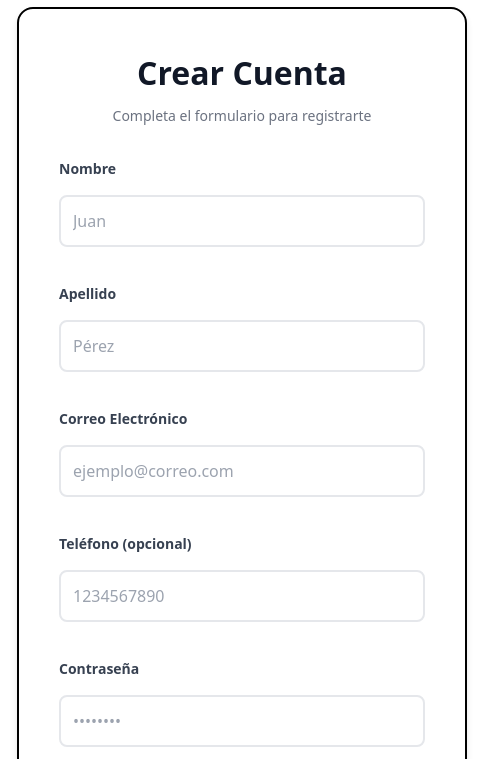
Test: RegisterPage › Validación de campos › debe validar que las contraseñas coincidan
Type "Password123" into the password field labelled "Contraseña". click: coordinates (242, 721)
box: [59,695,425,747]
(page scrolled)
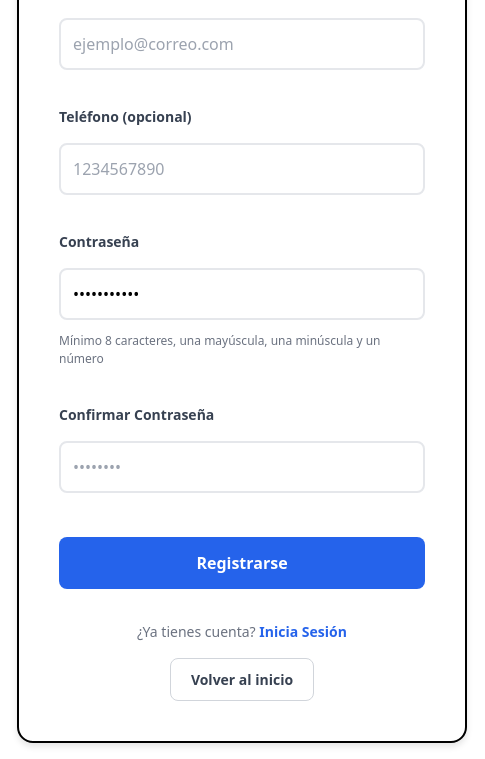
Type "Password456" into the password field labelled "Confirmar Contraseña". click: coordinates (242, 467)
box: [59,441,425,493]
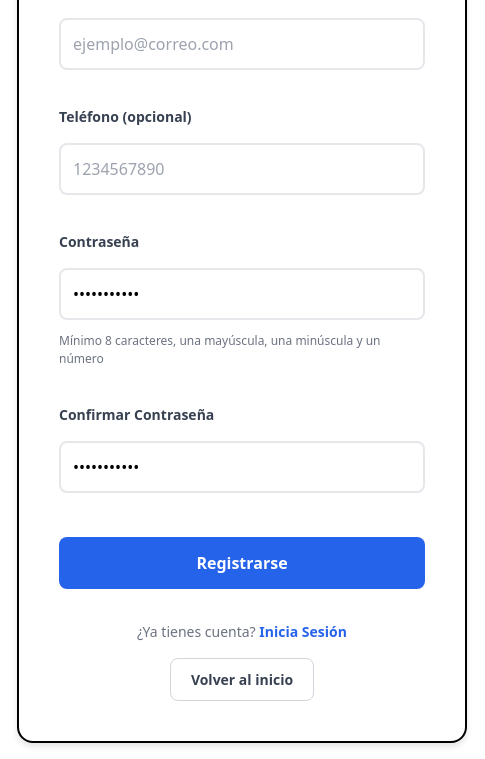
Leave the password field labelled "Confirmar Contraseña", box [59,441,425,493]
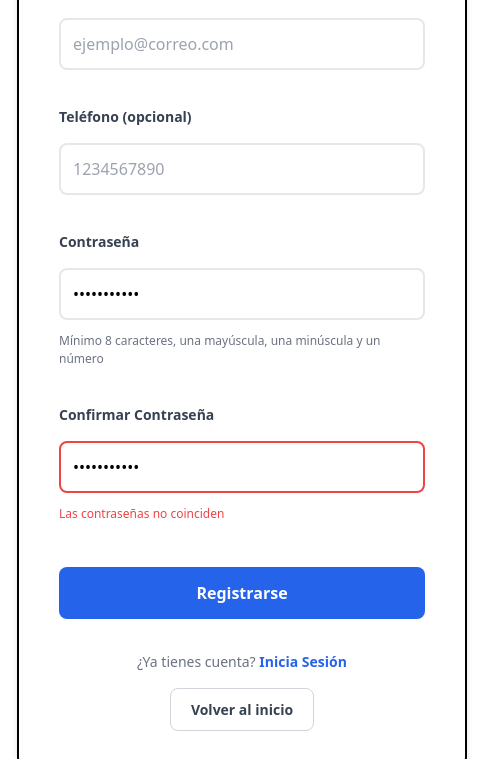
Check: the text "Las contraseñas no coinciden" is shown, box [59,505,224,522]
